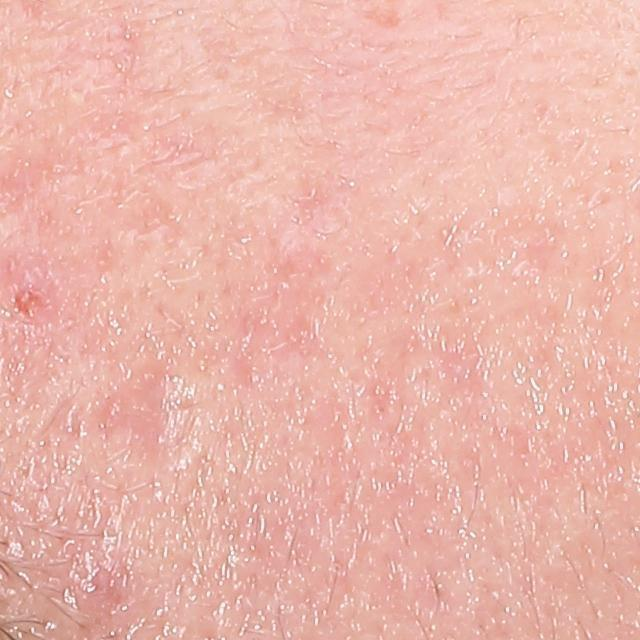papule: (15, 284, 47, 315)
